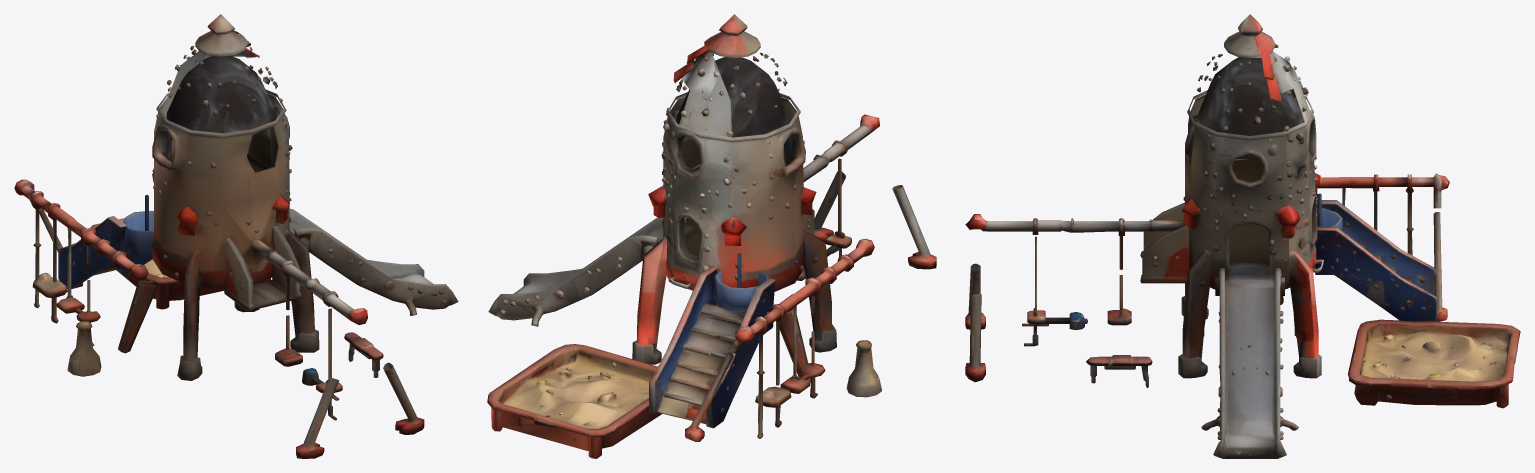
File: playground.glb
3 views of the same model, side by side, from view 1: azimuth 30°, elevation 25°; view 2: azimuth 150°, elevation 25°; view 3: azimuth 270°, elevation 25° (orthographic). The views are drawn at different scales.
Parts seen in each view (by area): view 1: tripo_node_4f120c87-0ed2-436b-952b-93806b736471; view 2: tripo_node_4f120c87-0ed2-436b-952b-93806b736471; view 3: tripo_node_4f120c87-0ed2-436b-952b-93806b736471.
Part boxes in pixels (x1=…): tripo_node_4f120c87-0ed2-436b-952b-93806b736471: x1=14, y1=14, x2=458, y2=458; tripo_node_4f120c87-0ed2-436b-952b-93806b736471: x1=487, y1=14, x2=936, y2=458; tripo_node_4f120c87-0ed2-436b-952b-93806b736471: x1=965, y1=14, x2=1520, y2=458.
Size of the model in its own units: 3.99 by 3.5 by 5.17.
Materials: 1 (1 with a texture image).
